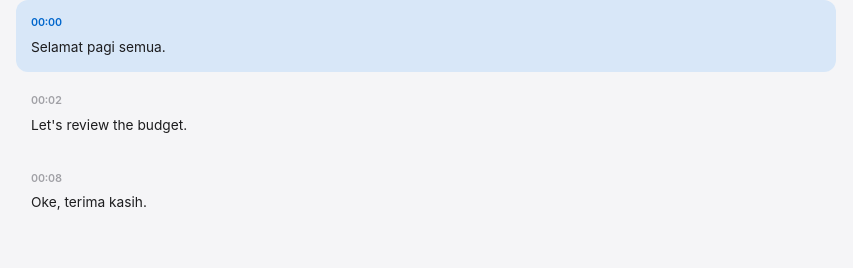
Test case: TranscriptEditor › does not save when the text is unchanged or emptied
The image size is (853, 268).
Double-click the text "Selamat pagi semua.": (98, 47) [31,39,166,55]
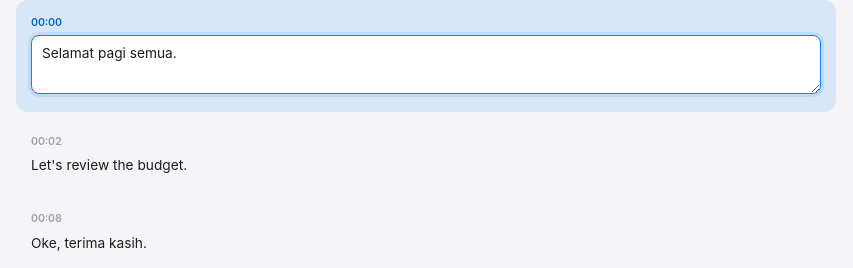
Clear the text box: (426, 65) [31,35,821,94]
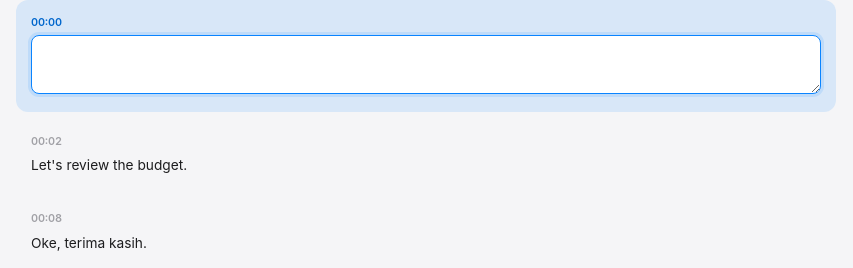
Press Enter
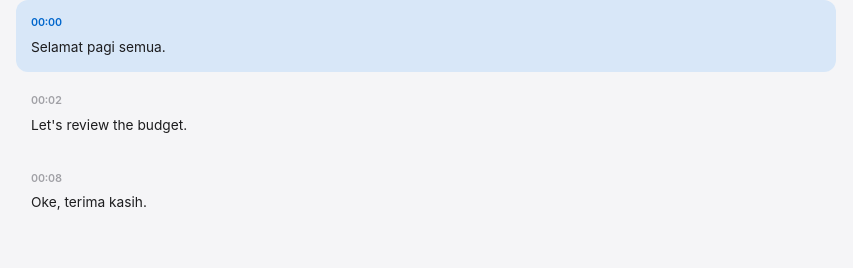
expect the text "Selamat pagi semua." is shown: met, box [31,39,166,55]
